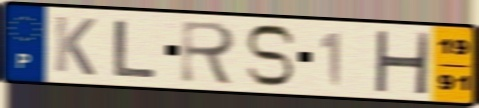1: (317, 30, 343, 87)
H: (371, 28, 432, 96)
K: (52, 13, 99, 78)
L: (111, 18, 160, 80)
R: (178, 18, 240, 87)
S: (242, 23, 299, 89)
